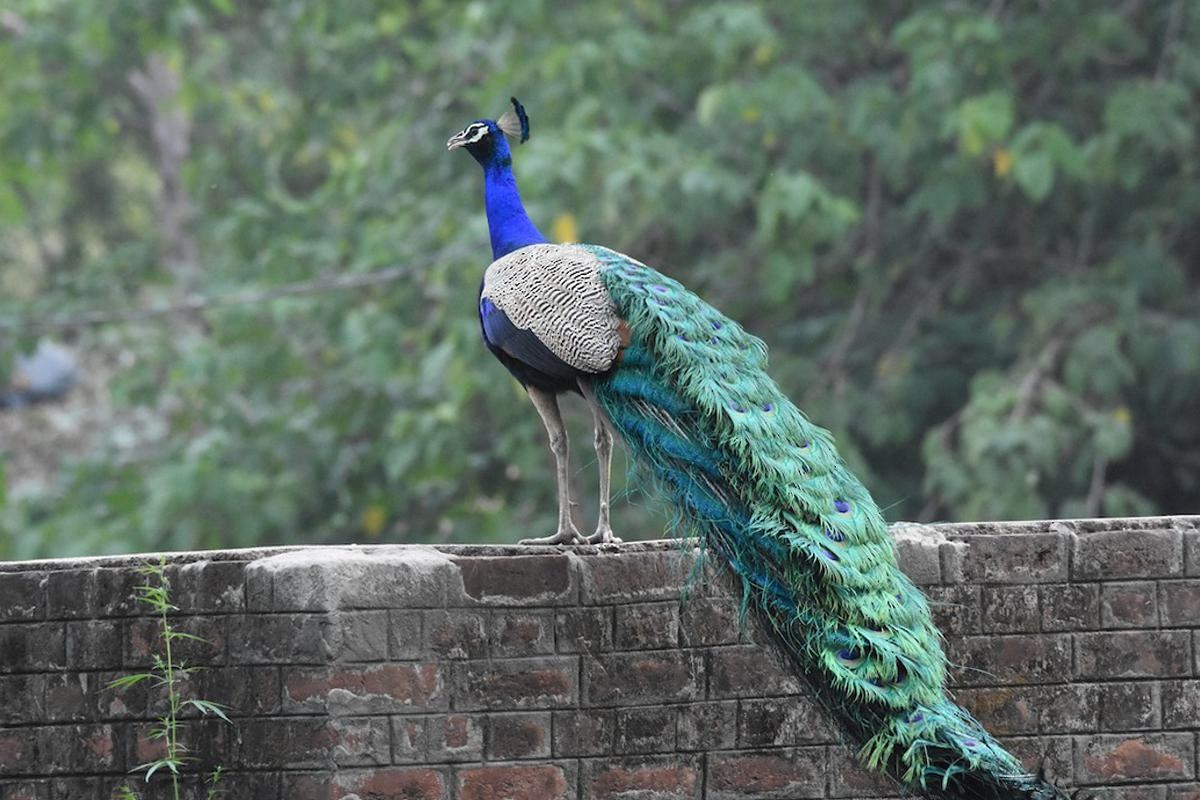peacock: (437, 84, 1007, 800)
